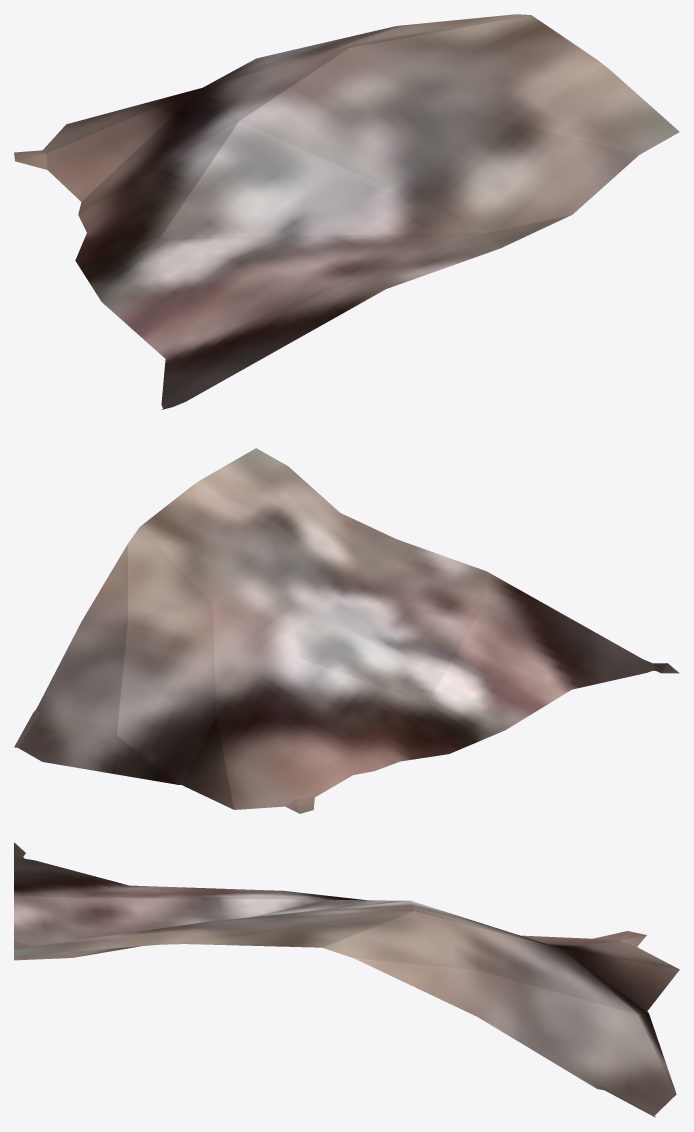
3 renders of one model, top to bottom at view 1: azimuth 30°, elevation 25°; view 2: azimuth 150°, elevation 25°; view 3: azimuth 270°, elevation 25°, orthographic. The views are drawn at different scales.
Size of the model in its own units: 0.1461 by 0.0432 by 0.1501.
Materials: 1 (1 with a texture image).
